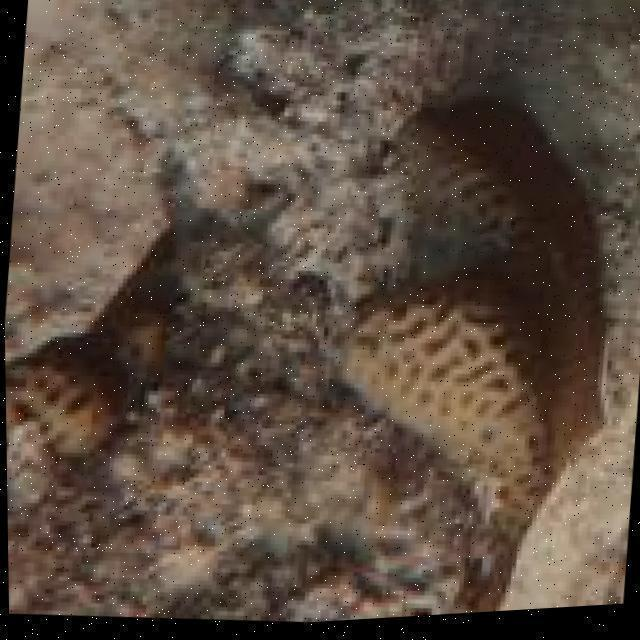Healthy Coral: (335, 69, 624, 530), (1, 298, 190, 462)
